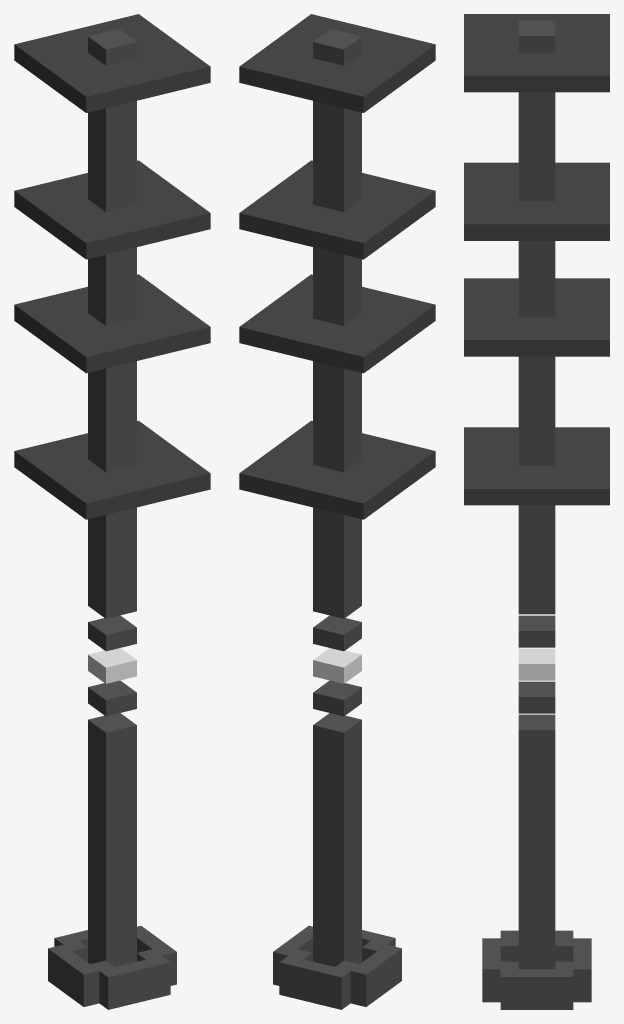
File: StreetAd3.obj
3 views of the same model, side by side, from view 1: azimuth 30°, elevation 25°; view 2: azimuth 150°, elevation 25°; view 3: azimuth 270°, elevation 25° (orthographic).
Parts seen in each view (by area): view 1: StreetAd3; view 2: StreetAd3; view 3: StreetAd3.
Part boxes in pixels (x1,y1,x2,y2): StreetAd3: [14, 14, 210, 1009]; StreetAd3: [239, 14, 435, 1009]; StreetAd3: [464, 14, 609, 1009].
Size of the model in its own units: 0.504 by 3.65 by 0.504.
Materials: 1 (1 with a texture image).
